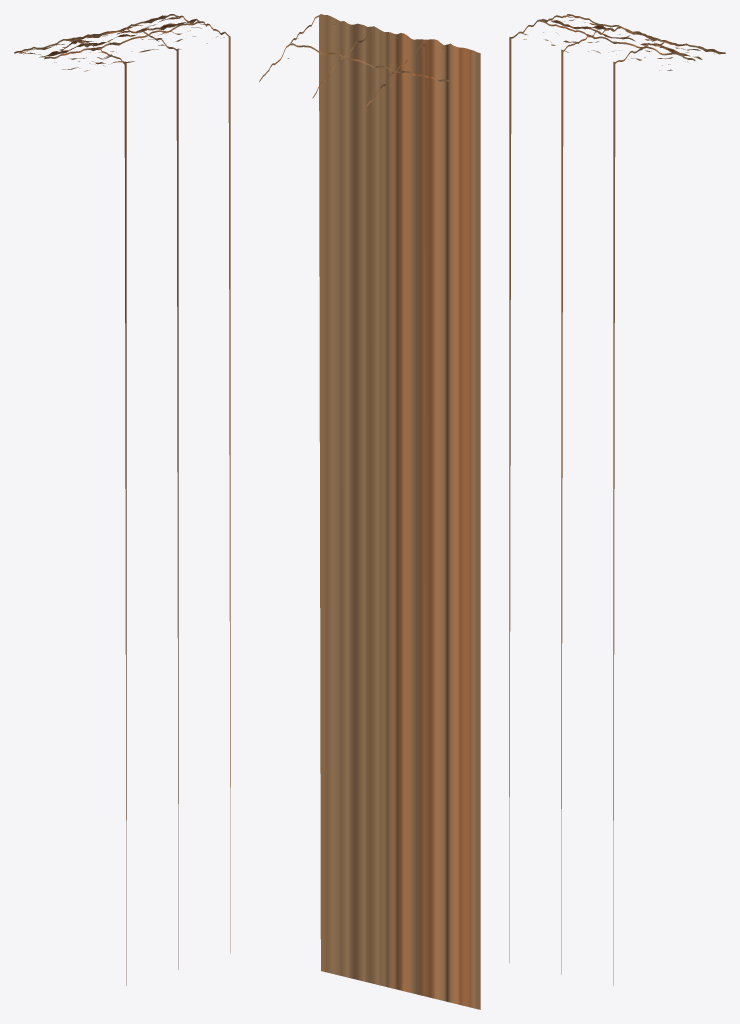
Rendered from terrain-157.glb.
The picture shows the model from 3 angles, left to right: view 1: azimuth 30°, elevation 25°; view 2: azimuth 150°, elevation 25°; view 3: azimuth 330°, elevation 25°; orthographic projection. The views are drawn at different scales.
Visible parts, largest first — view 1: terrain-157; view 2: terrain-157; view 3: terrain-157.
Part boxes in pixels (bbox=[...]): terrain-157: bbox=[14, 14, 230, 985]; terrain-157: bbox=[259, 14, 480, 1009]; terrain-157: bbox=[509, 14, 725, 985].
Size of the model in its own units: 384 by 2205 by 256.
